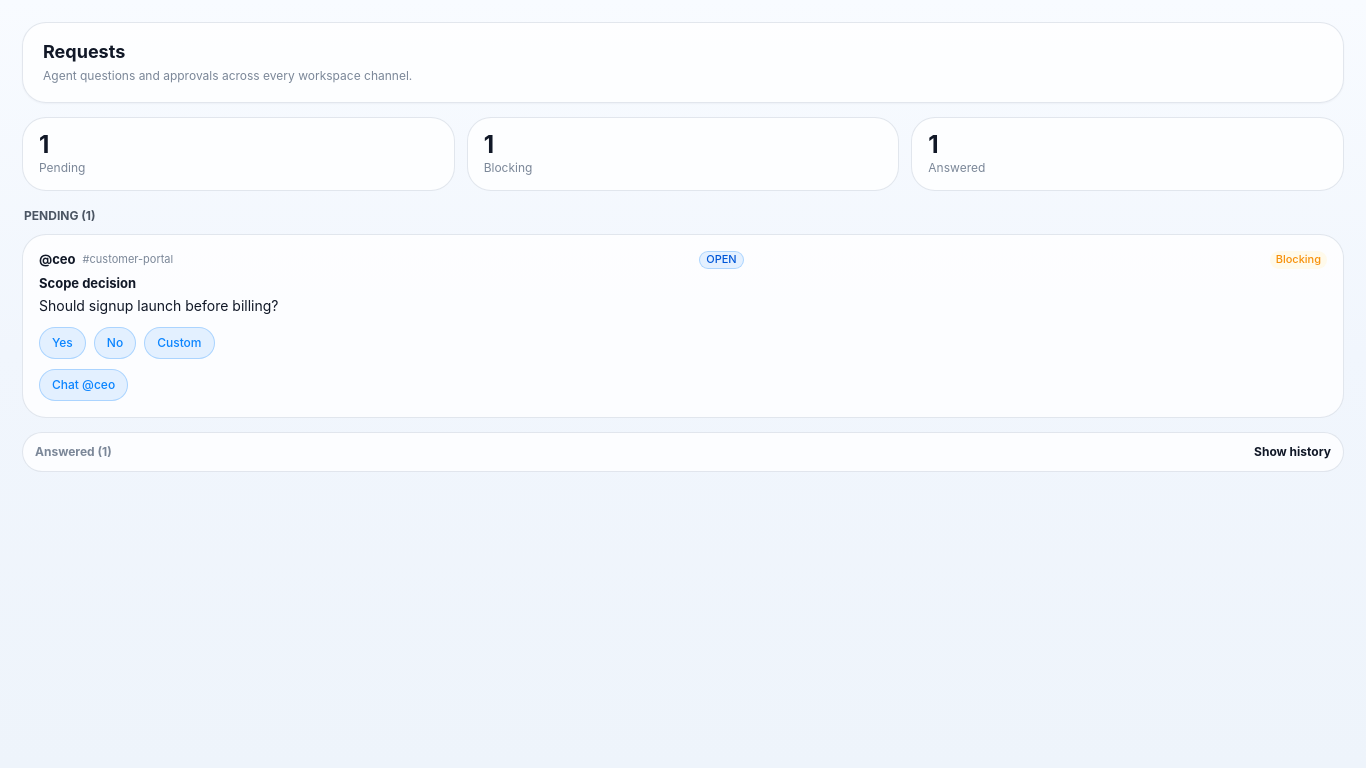
RequestsApp › shows all-channel request status and opens agent chat
Expected: the heading "Requests" is shown, x1=43 y1=41 x2=125 y2=62
Expected: the text "Pending" is shown, x1=39 y1=160 x2=85 y2=175
Click the button "Chat @ceo".
click(84, 385)  # box x1=39 y1=369 x2=128 y2=401
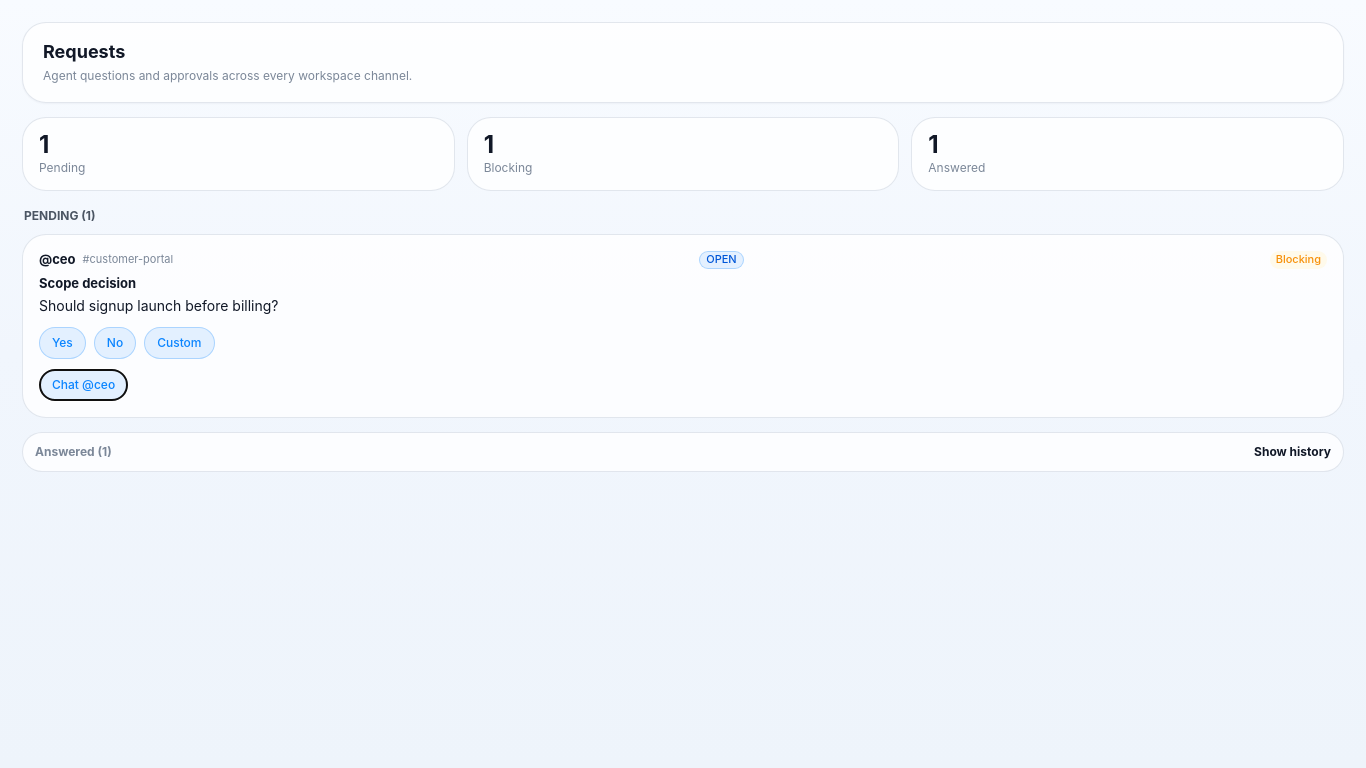
Click the button "Answered (1) Show history".
click(65, 451)  # box x1=22 y1=432 x2=1344 y2=472
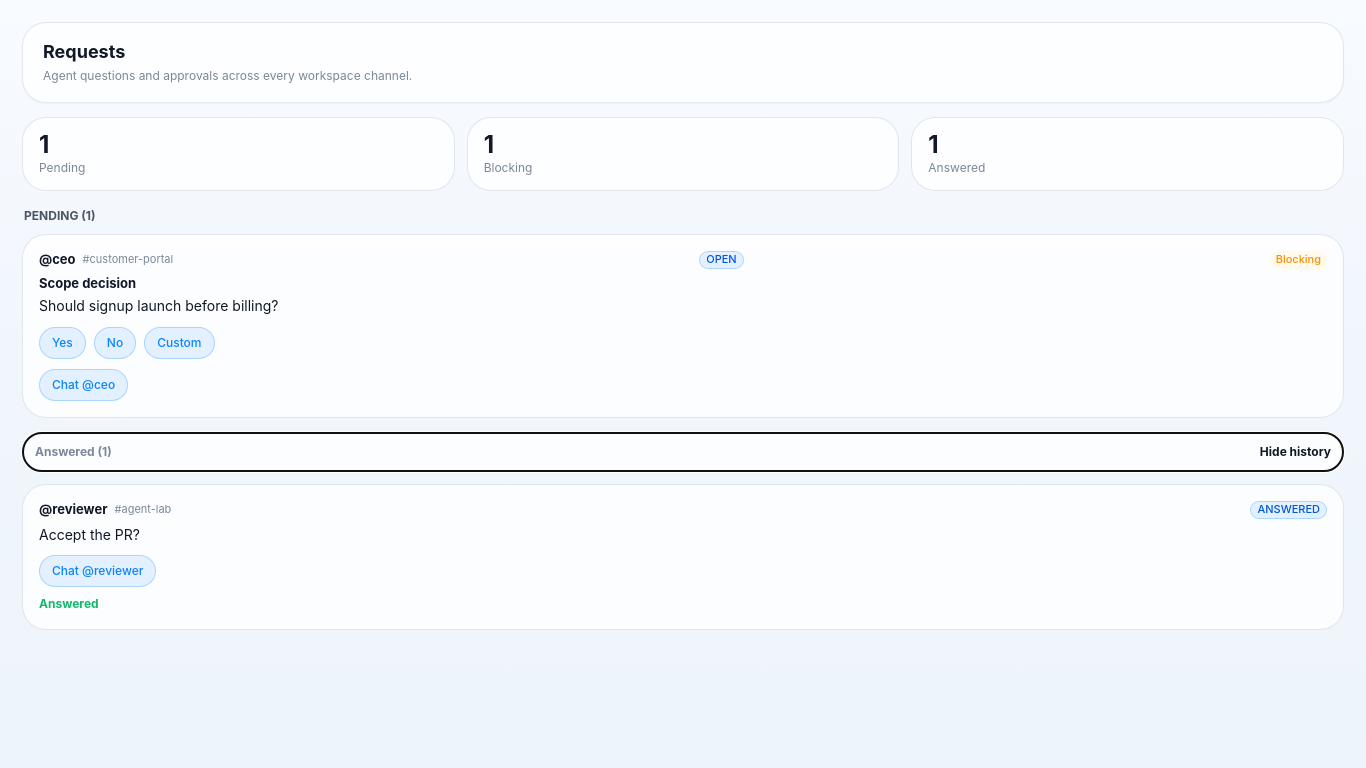
Result: the text "Accept the PR?" is shown at x1=39 y1=526 x2=140 y2=543
